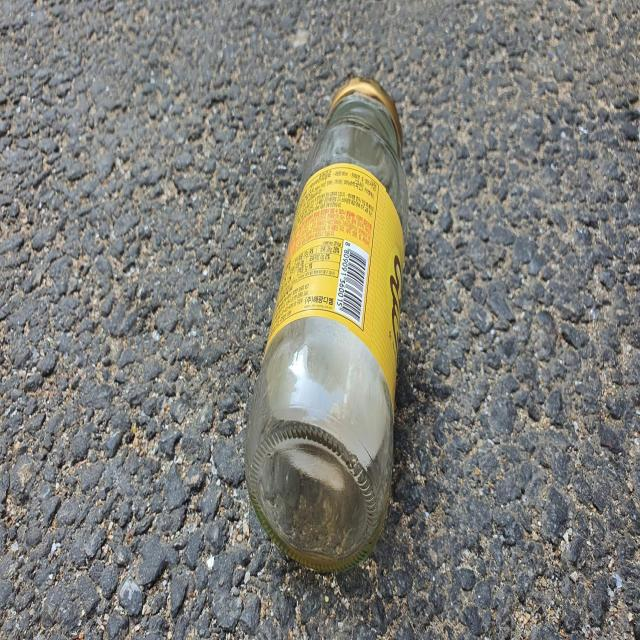glass: (245, 78, 409, 572)
